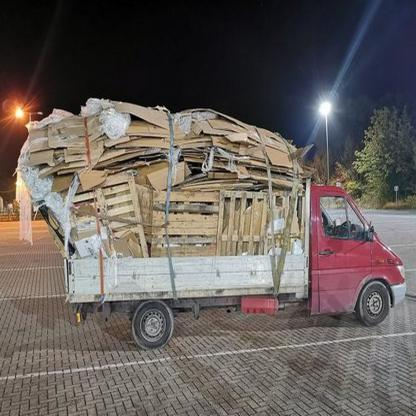overloaded-truck: (9, 93, 312, 277)
